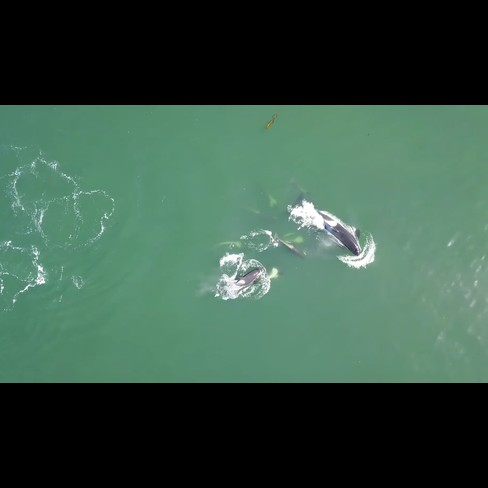orca: (284, 187, 377, 268), (260, 217, 312, 267), (215, 264, 271, 298)
